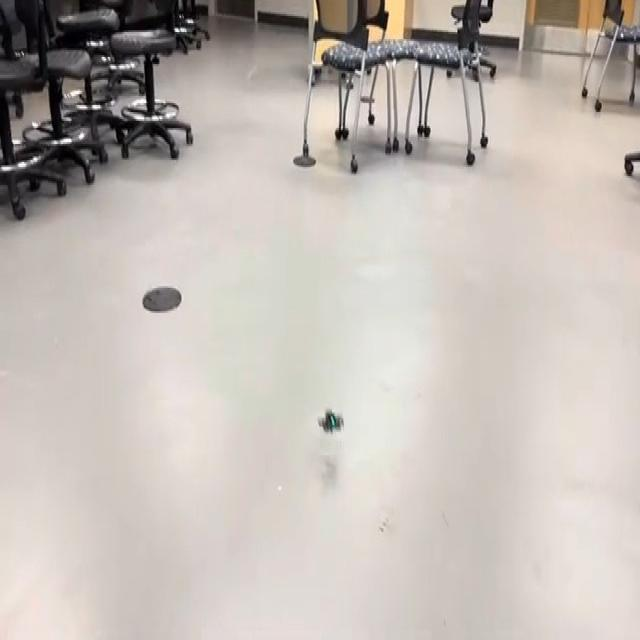drone: (307, 398, 351, 440)
